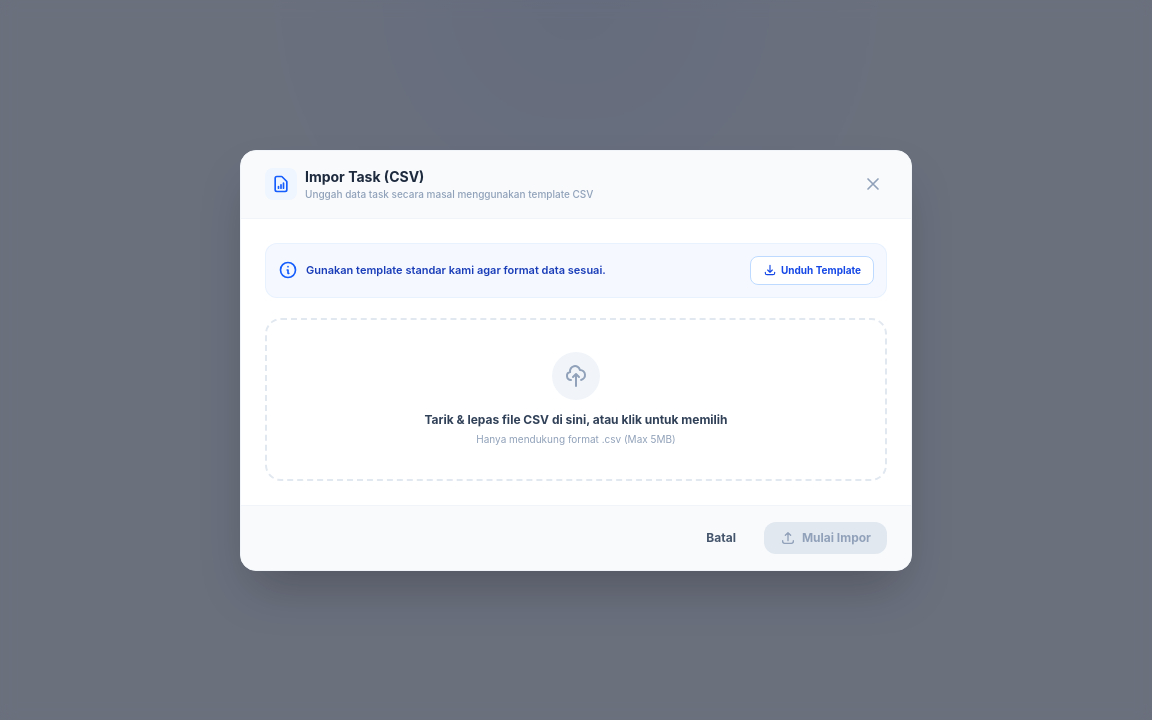
it: ImportCsvModal Component › handles template download failure
The image size is (1152, 720).
Click the button "Unduh Template" at (812, 270), box [750, 256, 874, 284]
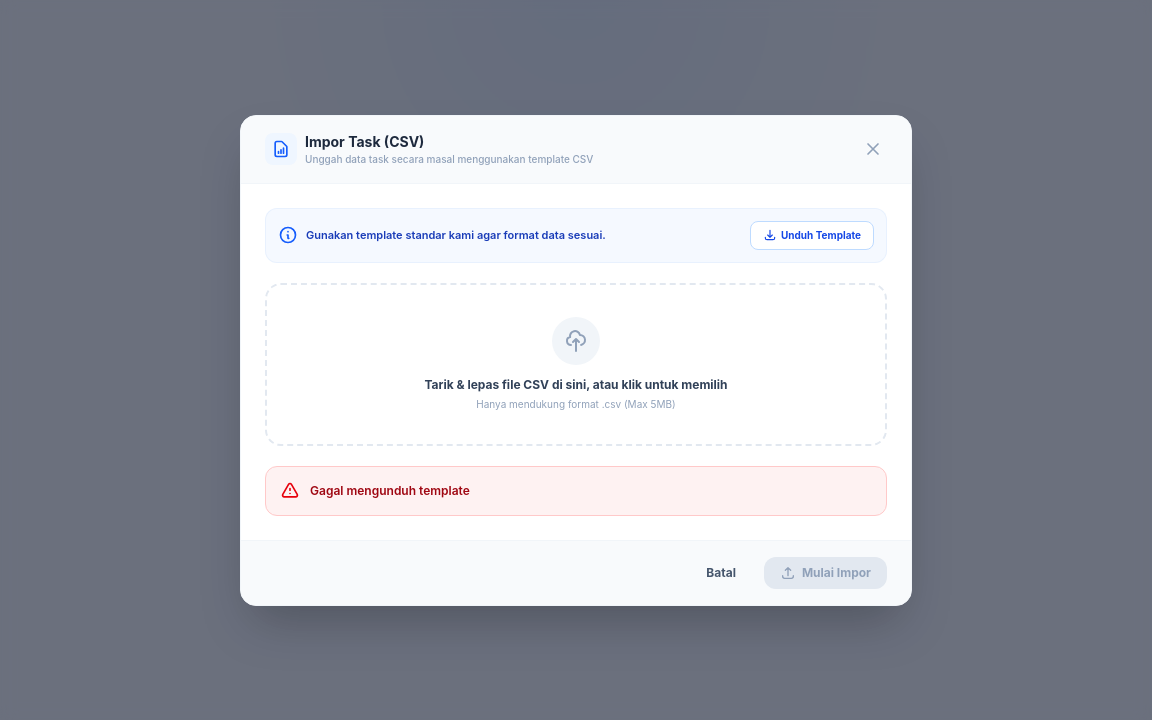
Result: the text "Gagal mengunduh template" is shown at [310, 482, 470, 498]
